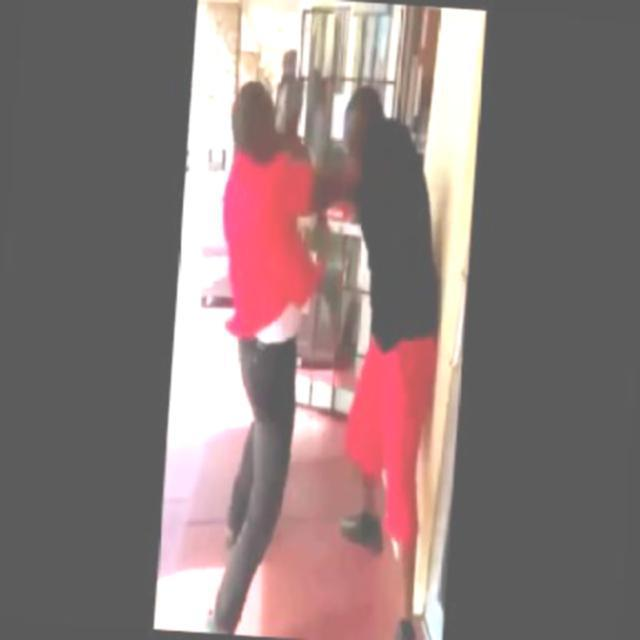fight: (198, 72, 457, 532)
